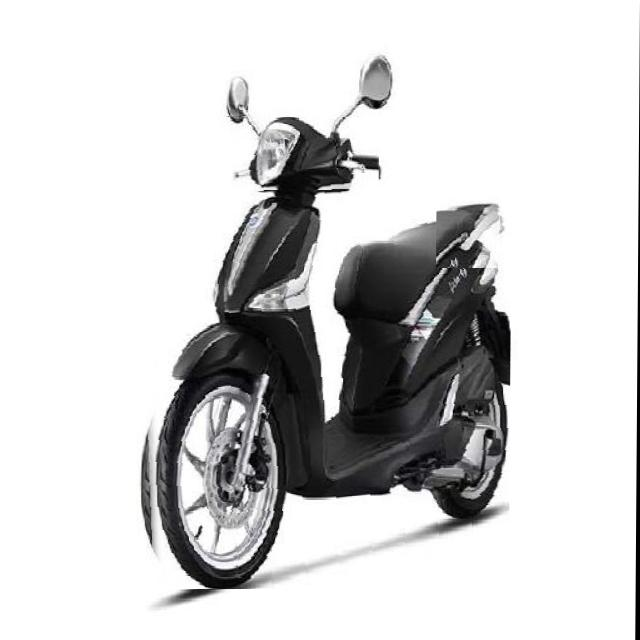All: (134, 113, 513, 589)
Head: (225, 117, 380, 191)
Tail: (437, 196, 502, 268)
